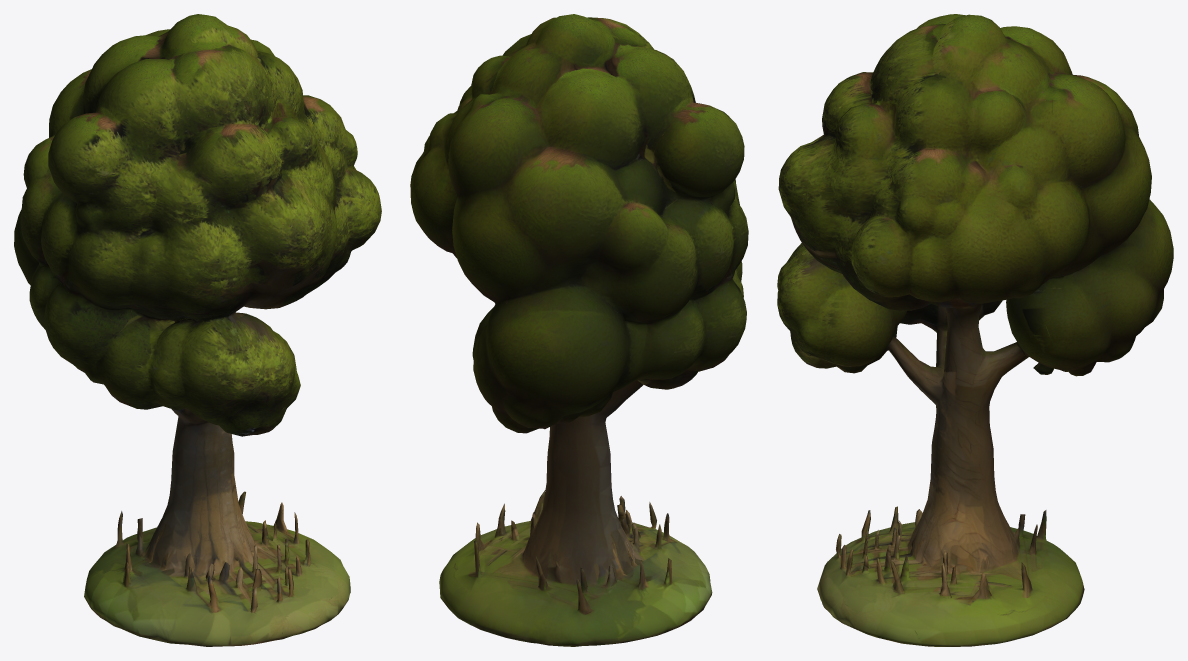
File: tree.glb
3 views of the same model, side by side, from view 1: azimuth 30°, elevation 25°; view 2: azimuth 150°, elevation 25°; view 3: azimuth 270°, elevation 25° (orthographic). The views are drawn at different scales.
Bounding box in the file's own units: 1.1 × 2.01 × 1.27.
Materials: 1 (1 with a texture image).
